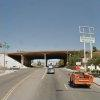Bridge: (10, 42, 75, 67)
